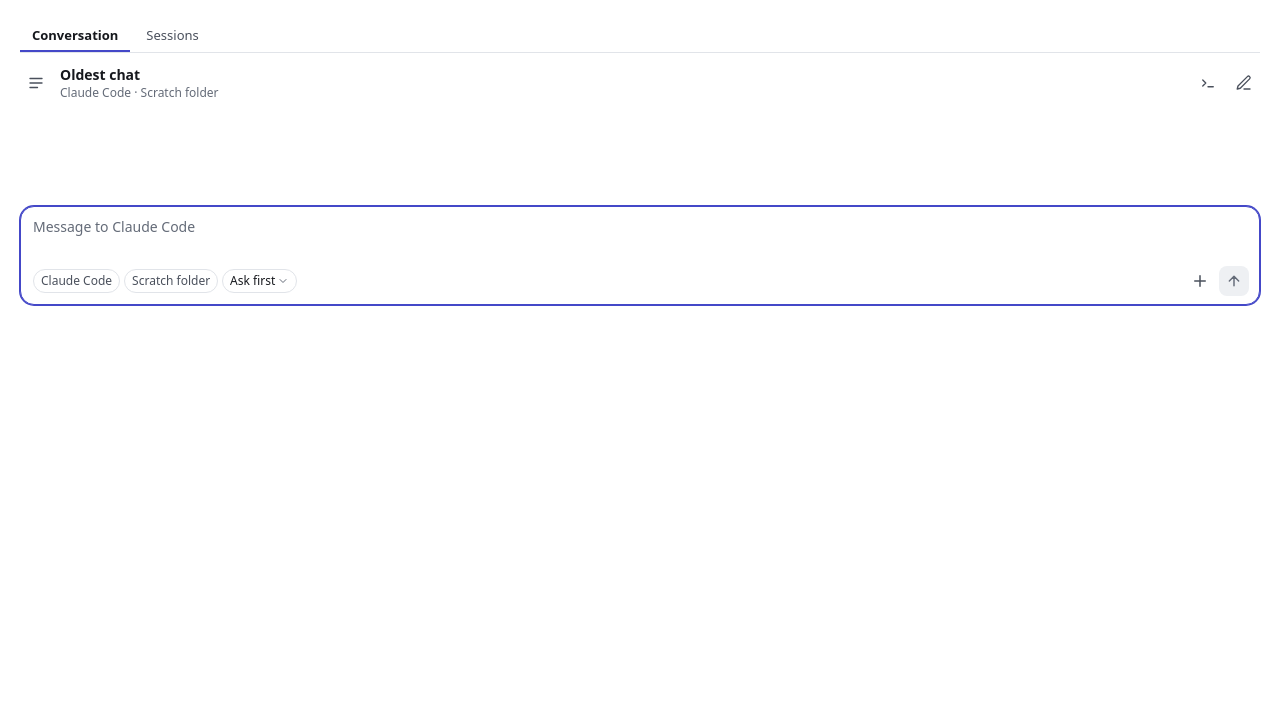
Test case: T563 the list of conversations › is reachable from an open conversation, which keeps its folder
The image size is (1280, 720).
Click the button named "Show conversations": [36, 83] box [20,67,52,99]
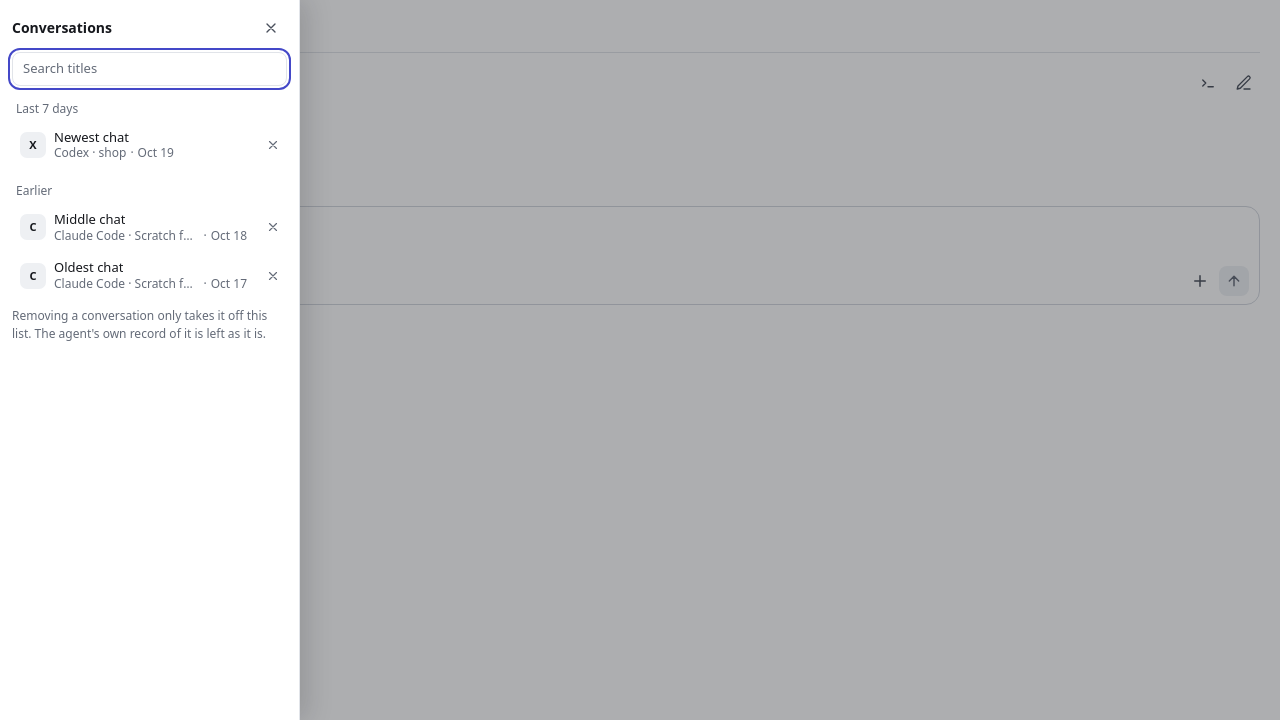
Now the number of list items is 3, box [12,122,287,168]; [12,204,287,250]; [12,252,287,299]
020 FR-321: the drawer closes over the conversation, which stayed open behind it.
Click the button named "Close": [271, 28] box [255,12,287,44]
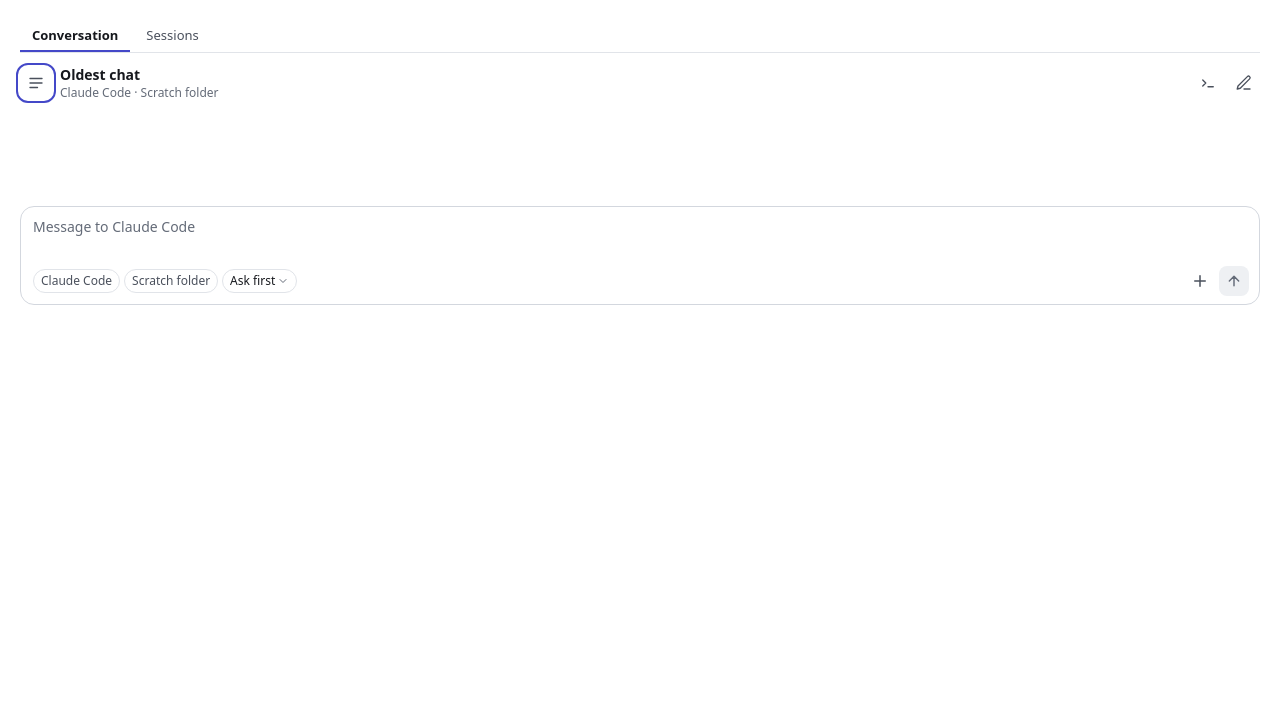
Expected: the element named "Conversation details" is shown, [20,65,1260,101]
Now the dialog is gone
